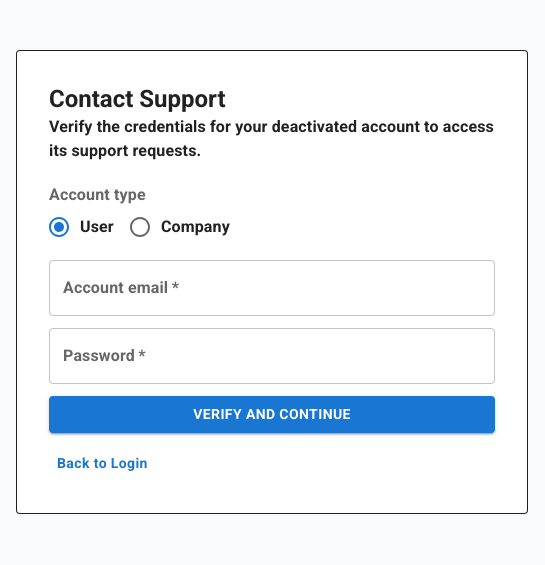
Test case: Support-only flow › uses the support-only error type for errors shown by the page
Type "invalid@example.test" into the field labelled "Account email *" at (272, 288), box [49,260,495,316]
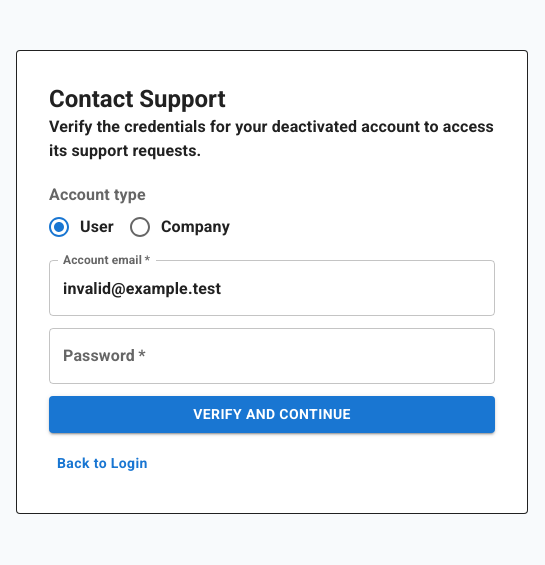
Type "incorrect-password" into the password field labelled "Password *" at (272, 356), box [49,328,495,384]
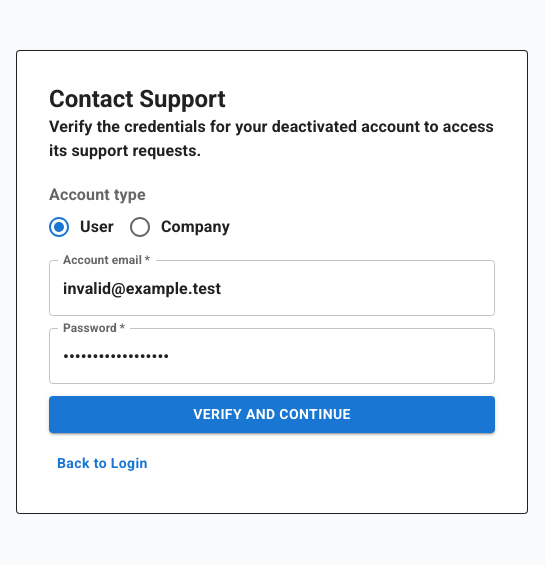
Click the button "Verify and continue" at (272, 414), box [49,396,495,432]
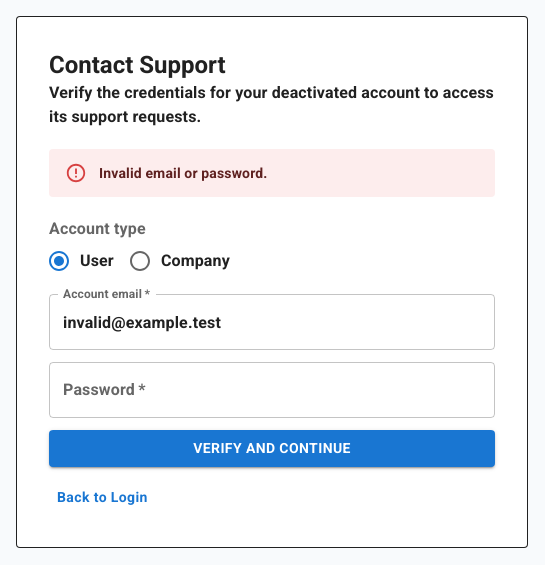
Now the message reads "Invalid email or password.", box [99,165,268,181]
